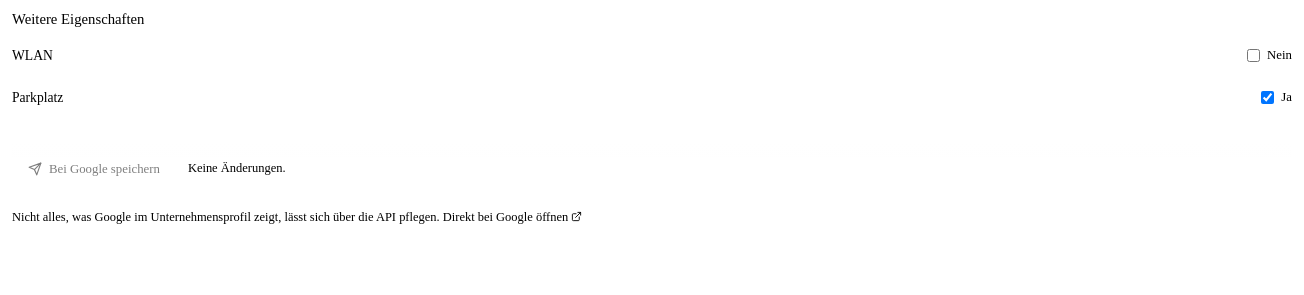
Test case: Speichern › stellt eine Antwort ohne confirmed nicht als Erfolg dar
This screenshot has width=1304, height=295.
Click the checkbox named "WLAN".
click(1254, 56)  # box [1247,49,1260,62]
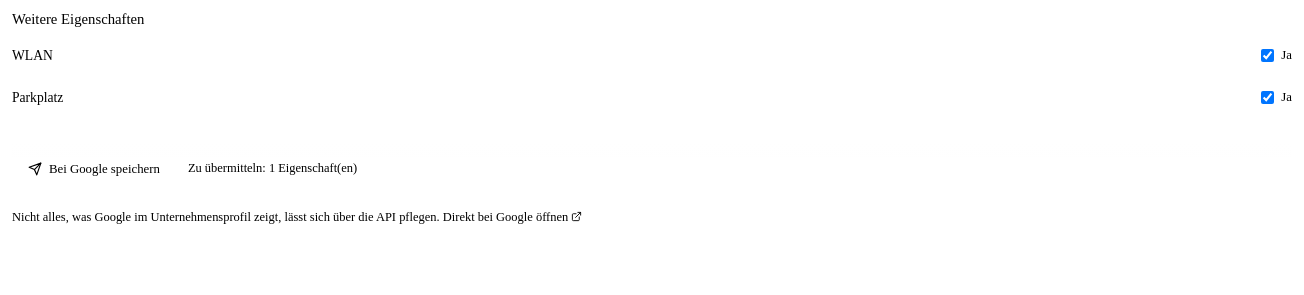
Click the button "Bei Google speichern".
click(94, 170)  # box [12,153,176,186]
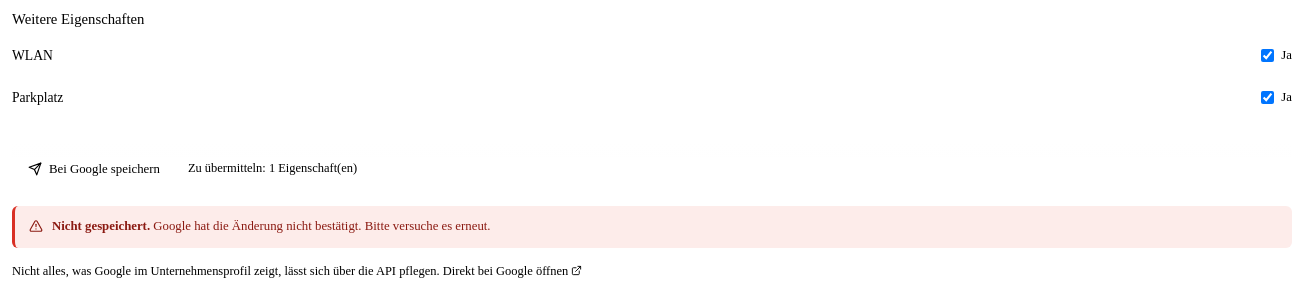
Now the message shows "nicht bestätigt", box [153,219,491,233]
